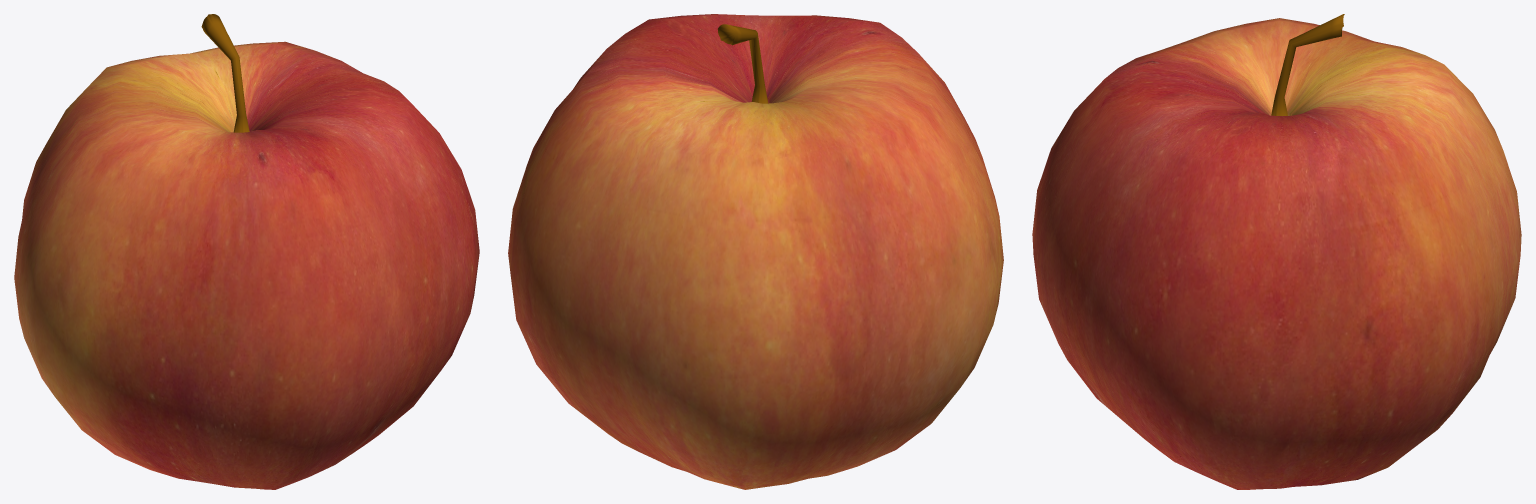
Rendered from pomme.fbx.
3 views of the same model, side by side, from view 1: azimuth 30°, elevation 25°; view 2: azimuth 150°, elevation 25°; view 3: azimuth 270°, elevation 25° (orthographic). The views are drawn at different scales.
Parts seen in each view (by area): view 1: Pomme; view 2: Pomme; view 3: Pomme.
Boxes of the visible parts, left/top/right/bottom form: Pomme: left=14, top=14, right=479, bottom=489; Pomme: left=508, top=14, right=1003, bottom=489; Pomme: left=1032, top=14, right=1521, bottom=489.
Bounding box in the file's own units: 639 × 638 × 632.
Materials: 2 (1 with a texture image).
